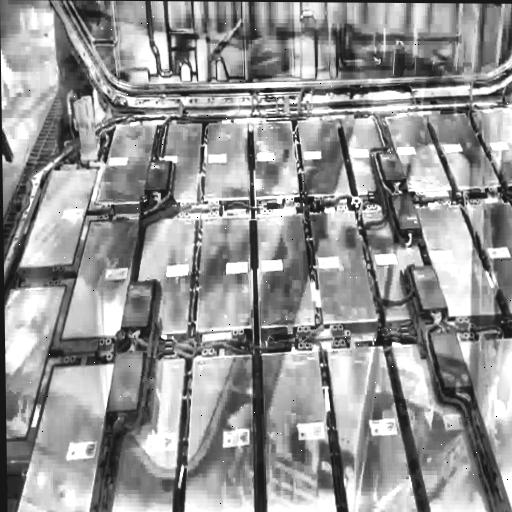battery_module: (391, 340, 492, 512), (328, 346, 420, 512), (17, 366, 115, 512), (262, 348, 336, 512), (113, 357, 187, 512), (184, 353, 254, 512), (5, 287, 66, 437), (417, 208, 501, 316), (63, 221, 139, 337), (19, 167, 99, 269), (461, 341, 512, 500), (311, 209, 378, 323), (135, 218, 197, 334), (363, 210, 425, 318), (197, 215, 253, 331), (258, 213, 314, 327), (433, 115, 501, 194), (96, 120, 156, 203), (388, 116, 453, 192), (469, 205, 512, 312), (298, 117, 353, 198), (203, 120, 251, 200), (254, 123, 301, 198), (162, 119, 203, 200), (342, 118, 384, 196), (475, 111, 512, 185)
busbar: (7, 161, 116, 468)
high_volt_cable: (164, 122, 389, 512), (89, 315, 158, 512)
